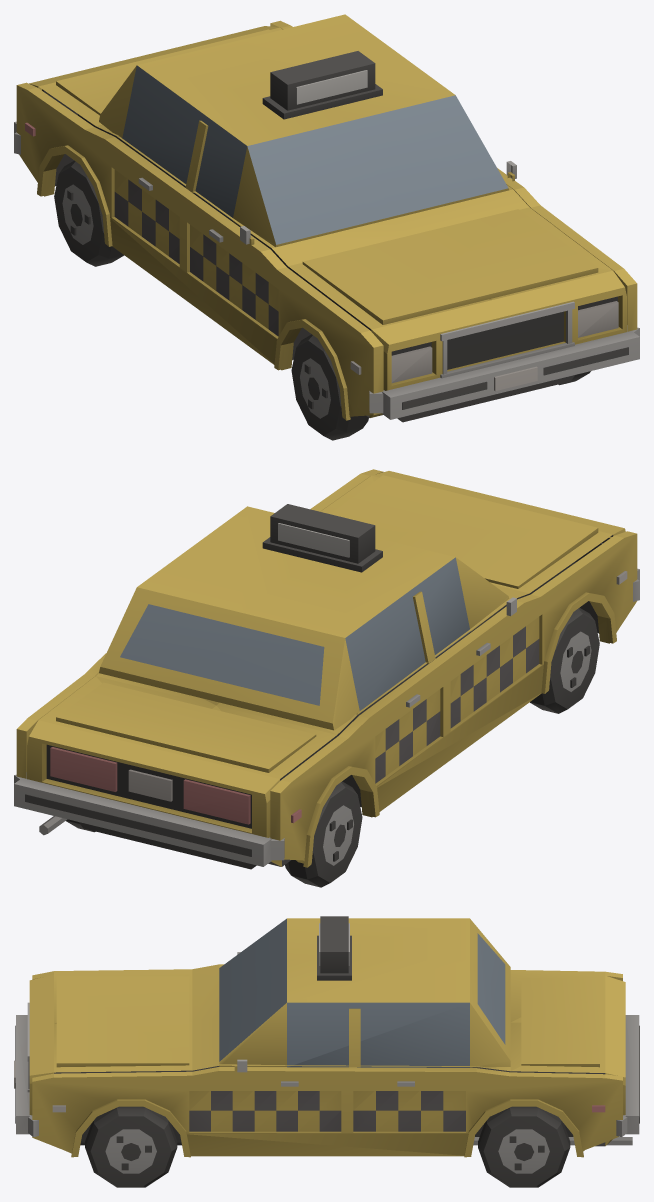
The model's file is cab.glb.
The picture shows the model from 3 angles, top to bottom: view 1: azimuth 30°, elevation 25°; view 2: azimuth 150°, elevation 25°; view 3: azimuth 270°, elevation 25°; orthographic projection. The views are drawn at different scales.
Visible parts, largest first — view 1: cab; view 2: cab; view 3: cab.
Boxes of the visible parts, left/top/right/bottom form: cab: left=14, top=14, right=639, bottom=440; cab: left=14, top=469, right=639, bottom=887; cab: left=14, top=916, right=639, bottom=1187.
Bounding box in the file's own units: 1.91 × 1.66 × 4.62.
